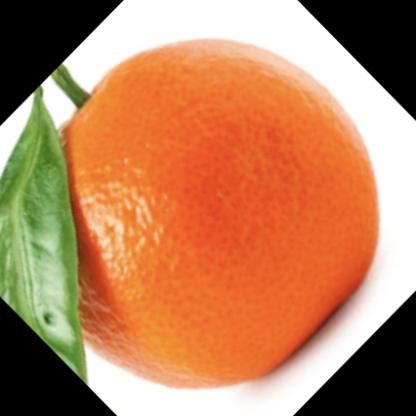fresh: (45, 40, 379, 388)
